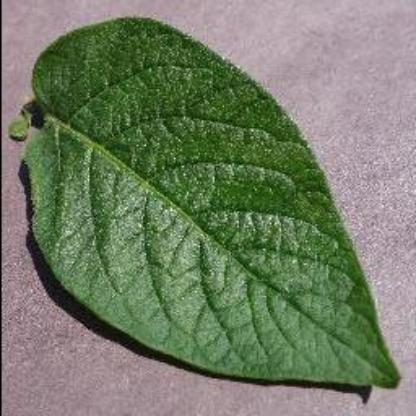Healthy-plant: (12, 22, 404, 392)
